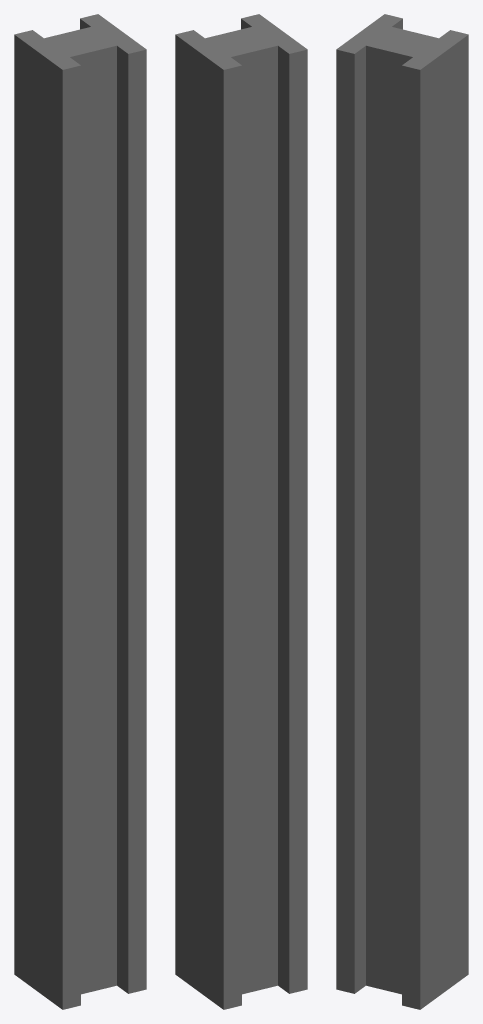
File: 3dmodel_metalbeam_v1_sc.fbx
3 renders of one model, left to right at view 1: azimuth 30°, elevation 25°; view 2: azimuth 210°, elevation 25°; view 3: azimuth 330°, elevation 25°, orthographic.
Visible parts, largest first — view 1: metal_beam; view 2: metal_beam; view 3: metal_beam.
Part boxes in pixels (x1,y1,x2,y2): metal_beam: (14, 14, 146, 1009); metal_beam: (175, 14, 307, 1009); metal_beam: (336, 14, 468, 1009).
Size of the model in its own units: 0.1871 by 2 by 0.1871.
